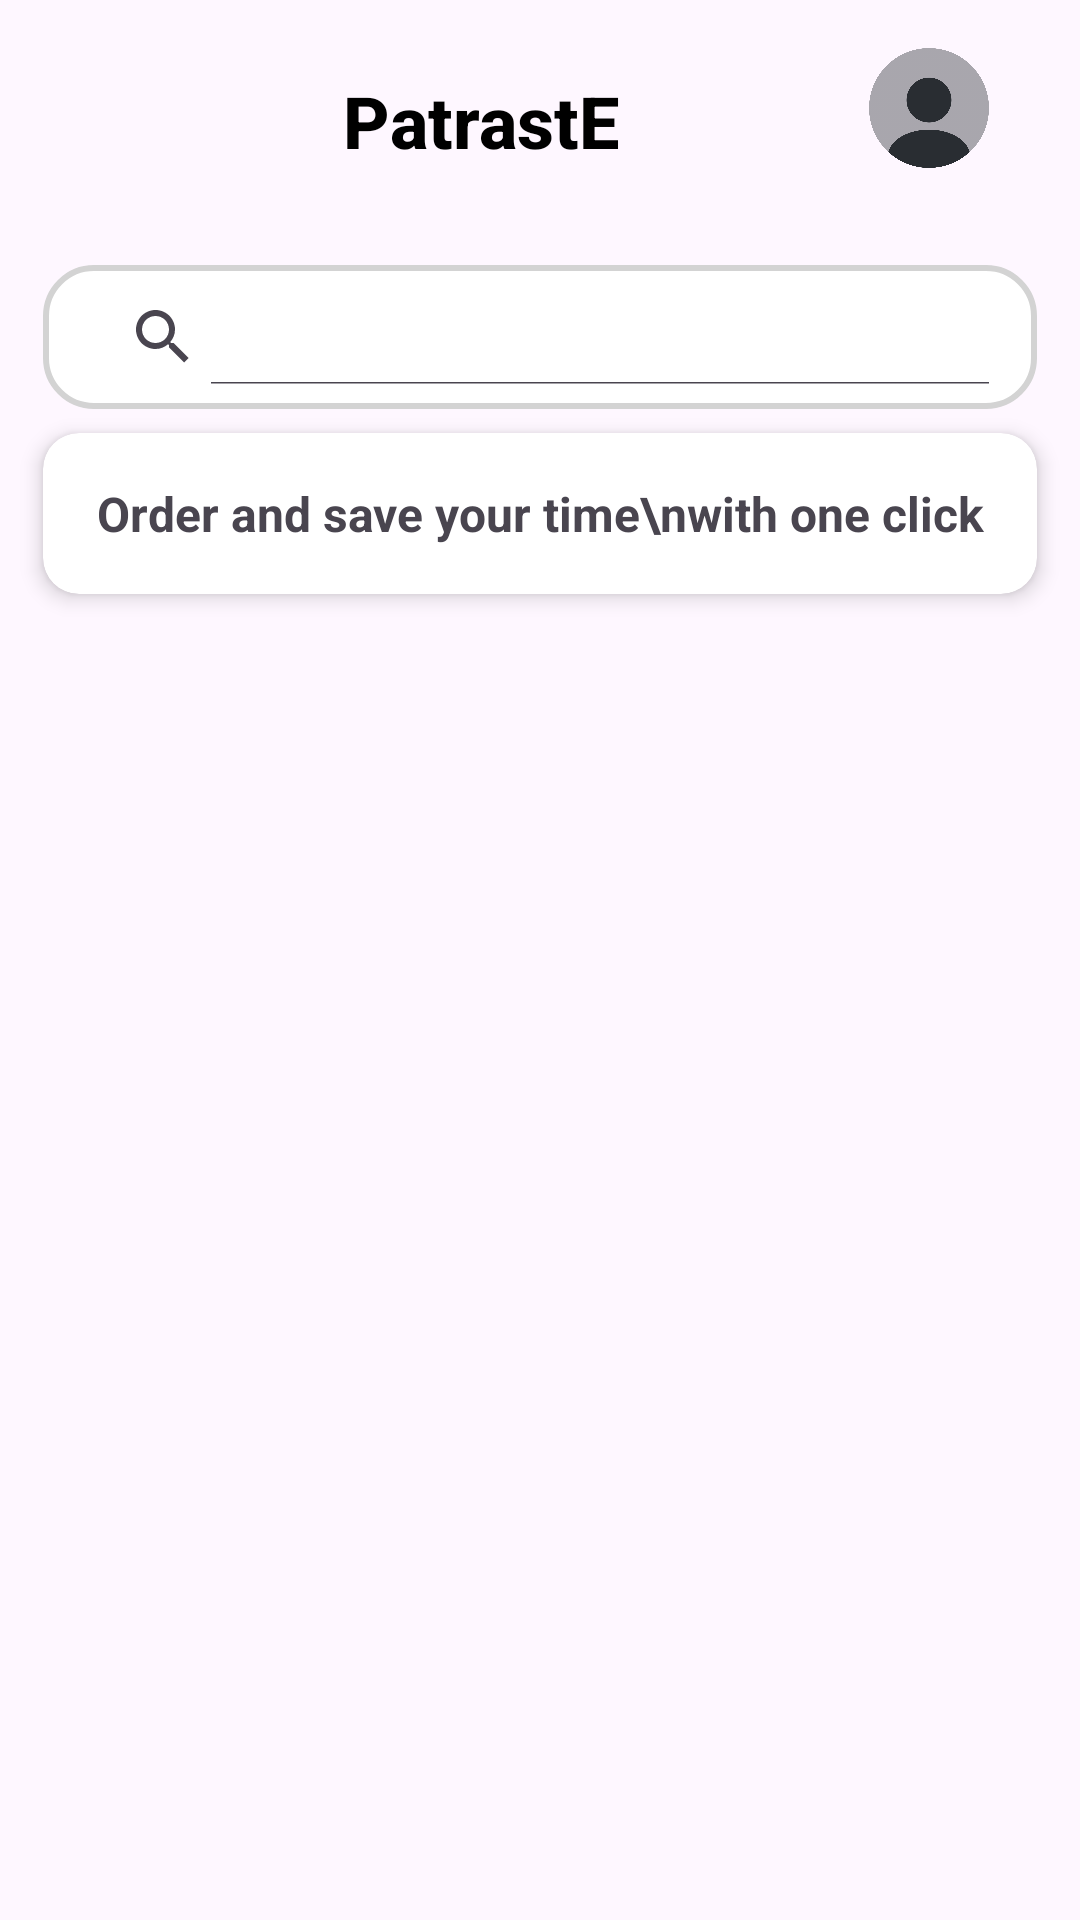

Icon click points for this 1080x1920 phone screenshot, format [x,y]:
Profile Icon: [929,108]
